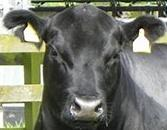muzzles: (59, 96, 108, 124)
